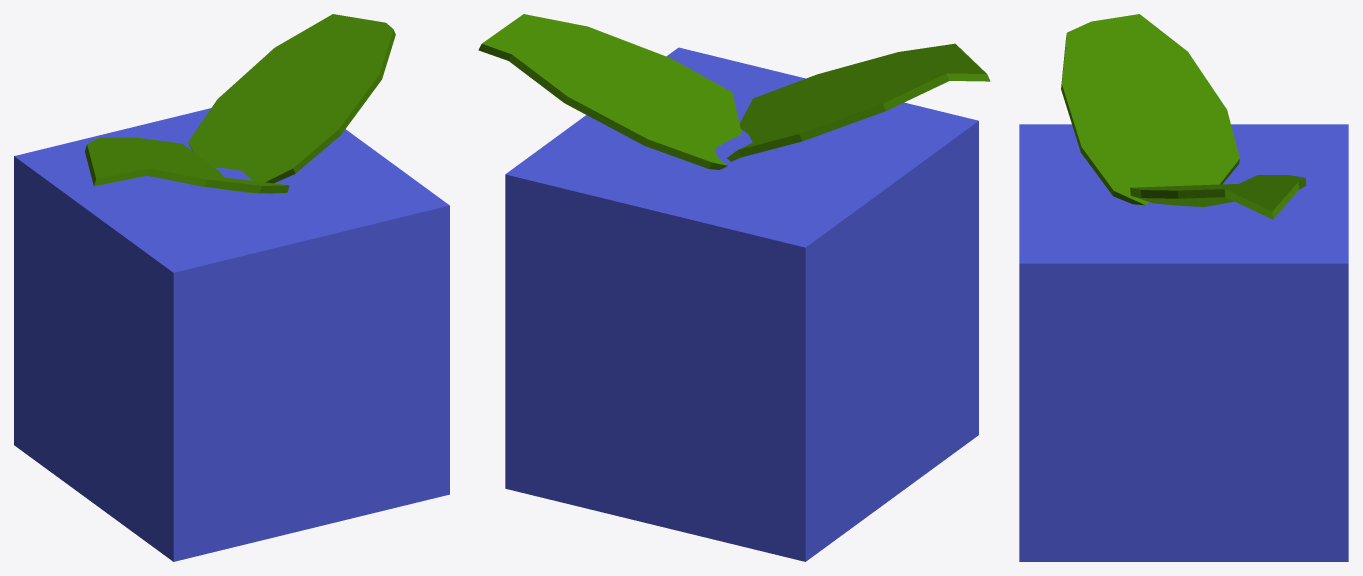
The model's file is Berry_Blue.fbx.
3 views of the same model, side by side, from view 1: azimuth 30°, elevation 25°; view 2: azimuth 150°, elevation 25°; view 3: azimuth 270°, elevation 25° (orthographic). The views are drawn at different scales.
Parts seen in each view (by area): view 1: Berry_Blue; view 2: Berry_Blue; view 3: Berry_Blue.
Part boxes in pixels (bbox=[...]): Berry_Blue: bbox=[14, 14, 449, 561]; Berry_Blue: bbox=[478, 14, 990, 561]; Berry_Blue: bbox=[1019, 14, 1348, 561].
Bounding box in the file's own units: 18.04 × 17.2 × 13.01.
